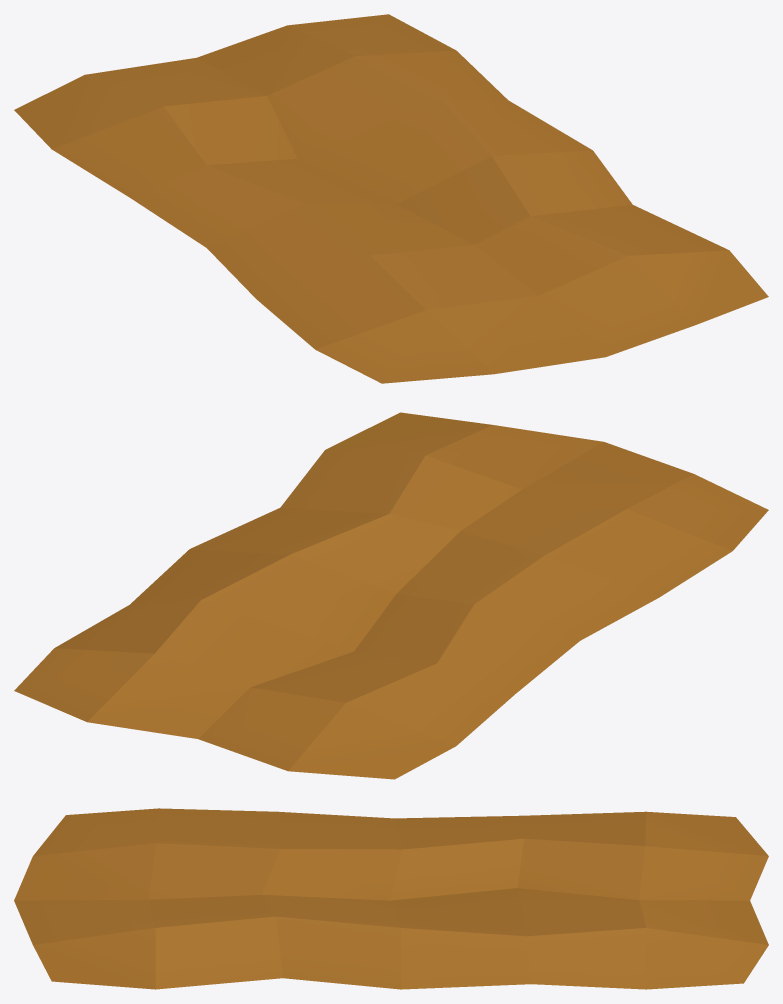
The model's file is cGround_B_7_.fbx.
3 views of the same model, one above another, from view 1: azimuth 30°, elevation 25°; view 2: azimuth 150°, elevation 25°; view 3: azimuth 270°, elevation 25° (orthographic). The views are drawn at different scales.
Visible parts, largest first — view 1: cGround_B_7; view 2: cGround_B_7; view 3: cGround_B_7.
Boxes of the visible parts, x1,y1,x2,y2 form: cGround_B_7: (14, 14, 768, 383); cGround_B_7: (14, 412, 768, 779); cGround_B_7: (14, 808, 768, 989).
Bounding box in the file's own units: 931 × 42.01 × 1641.
